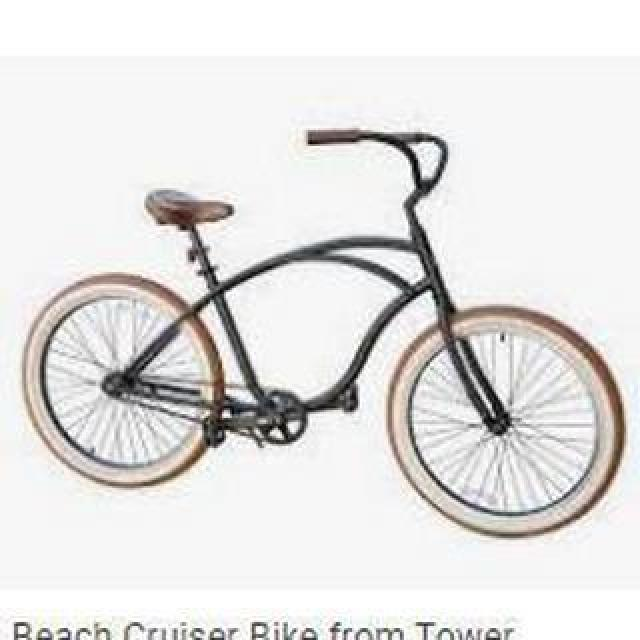Person: (17, 125, 625, 545)
